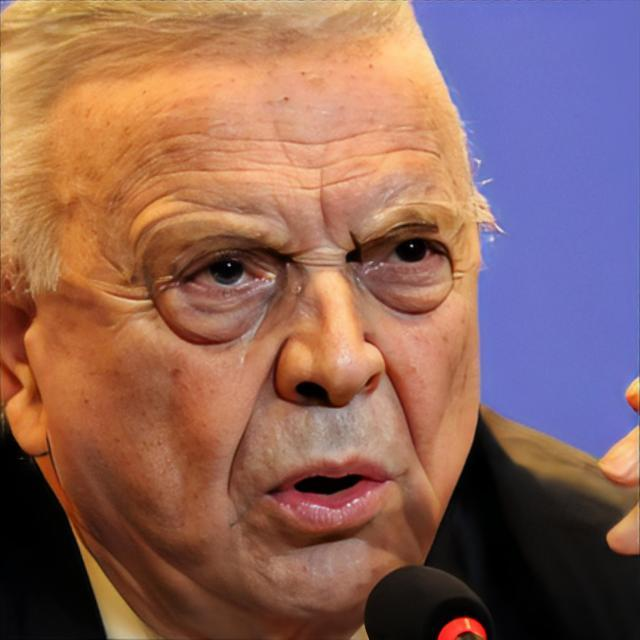anger: (64, 60, 482, 615)
